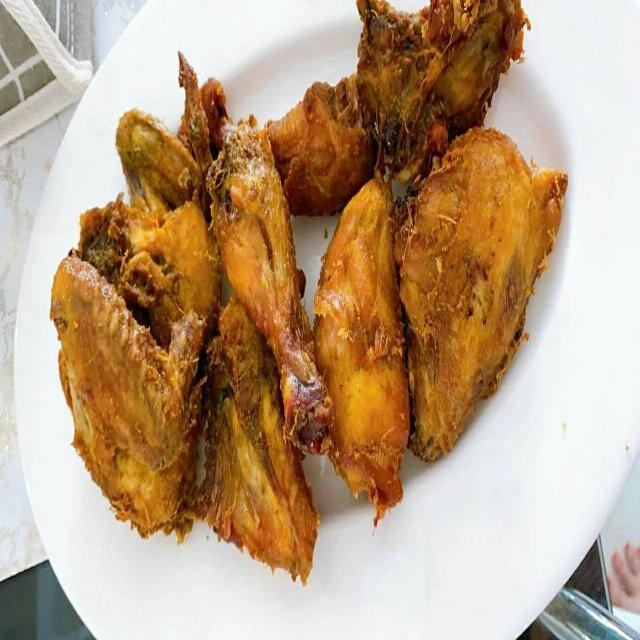ayam_goreng: (38, 3, 544, 556)
